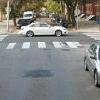Crosswalk: (4, 35, 83, 60)
